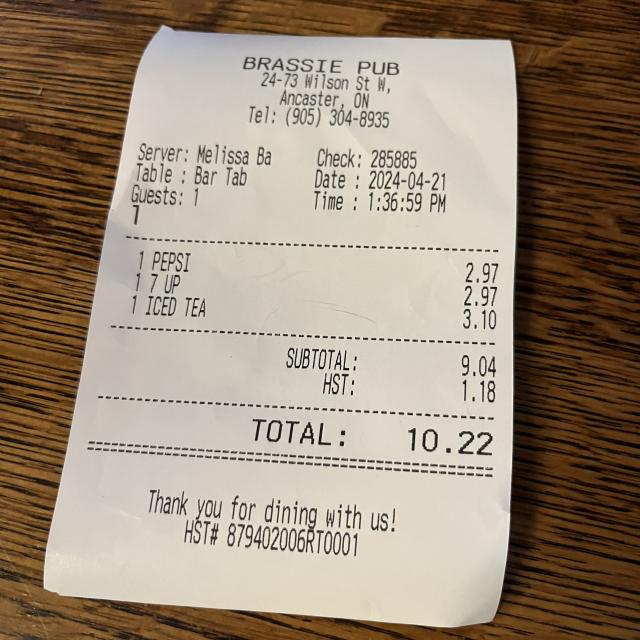item: (143, 293, 504, 333), (144, 269, 504, 308), (146, 248, 505, 286)
store_name: (234, 50, 410, 83)
total_amount: (236, 416, 507, 460)
